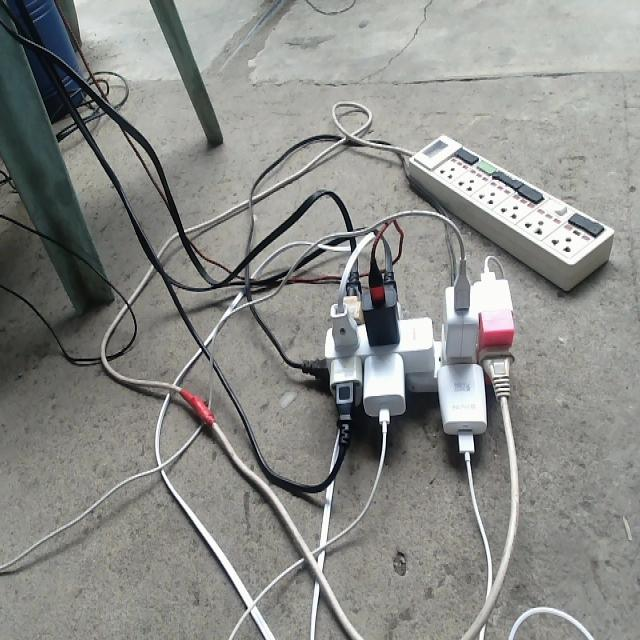-: (304, 256, 516, 459)
